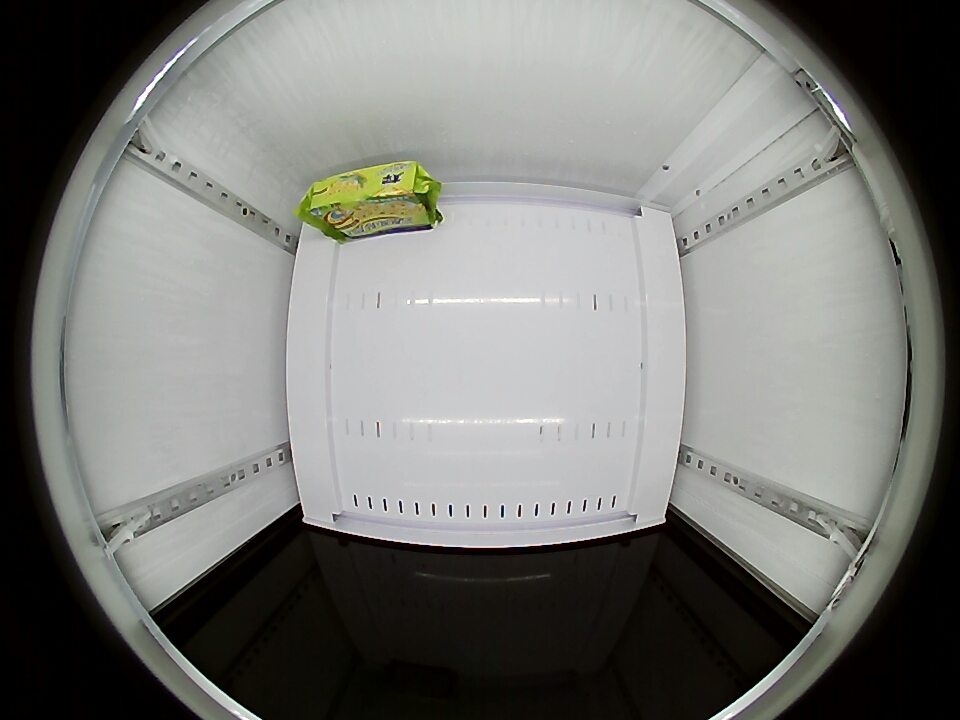taipingshuda: (299, 160, 431, 224)
